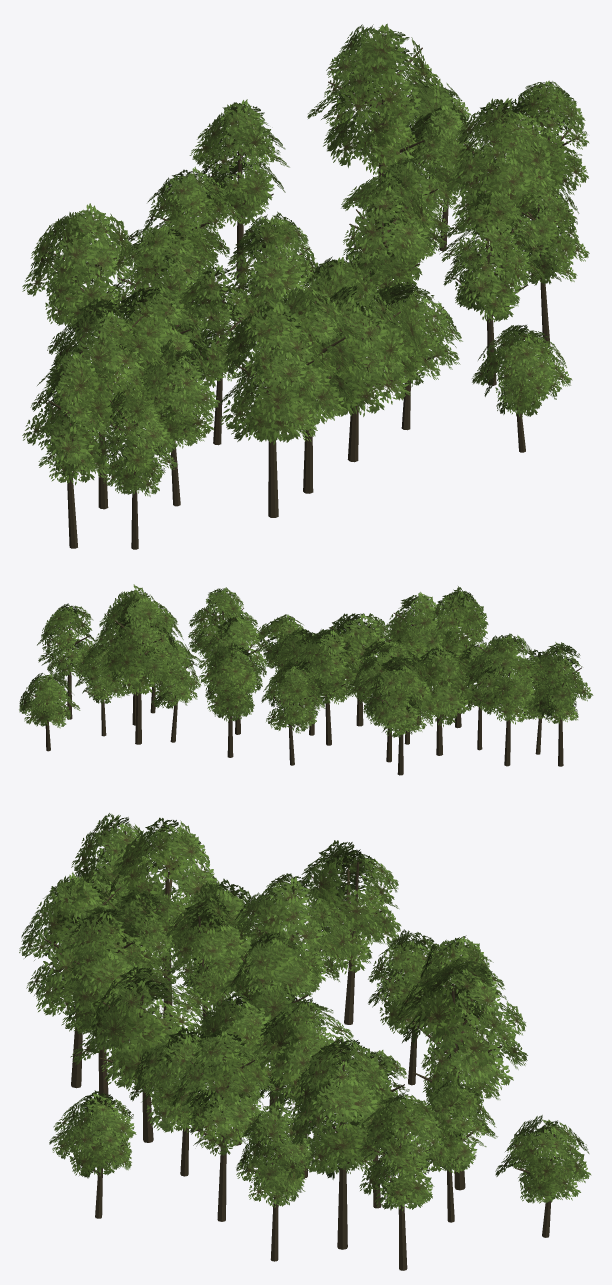
Rendered from TRB8-FOREST-CHUNK-1-4.glb.
3 views of the same model, one above another, from view 1: azimuth 30°, elevation 25°; view 2: azimuth 150°, elevation 25°; view 3: azimuth 270°, elevation 25° (orthographic). The views are drawn at different scales.
Visible parts, largest first — view 1: TRB8-FOREST-CHUNK-1-4; view 2: TRB8-FOREST-CHUNK-1-4; view 3: TRB8-FOREST-CHUNK-1-4.
Boxes of the visible parts, <box> form: TRB8-FOREST-CHUNK-1-4: <box>22,23,589,549</box>; TRB8-FOREST-CHUNK-1-4: <box>19,584,593,775</box>; TRB8-FOREST-CHUNK-1-4: <box>19,813,591,1270</box>.
Size of the model in its own units: 20.21 by 7.64 by 14.55.
Materials: 2 (1 with a texture image).
